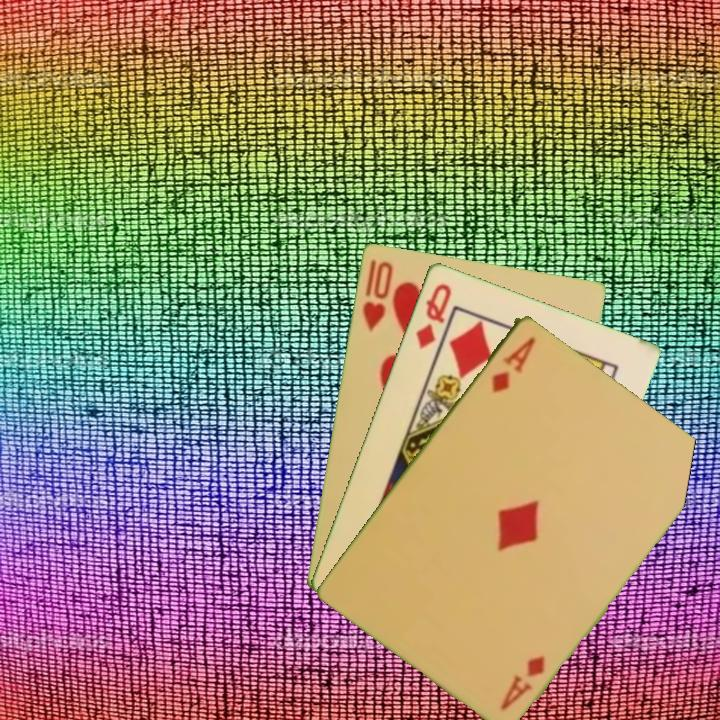10h: (358, 255, 396, 335)
Ad: (496, 651, 548, 713), (488, 332, 539, 395)
Qd: (411, 279, 454, 351)
